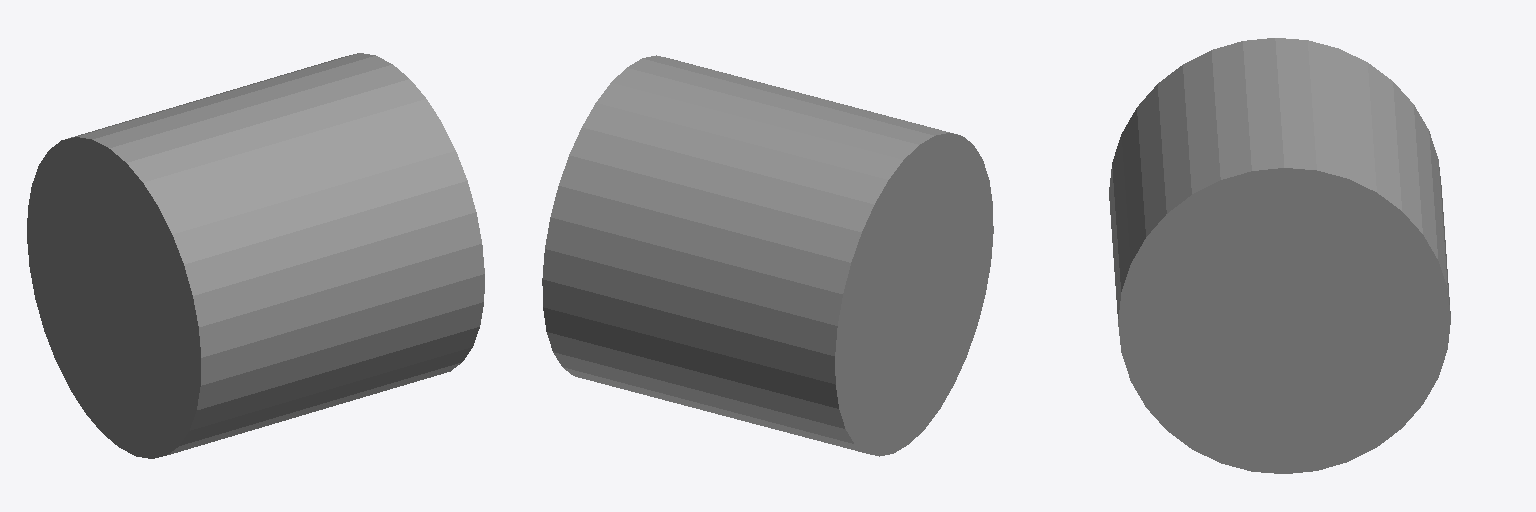
File: wheelFrontRight.obj
3 renders of one model, left to right at view 1: azimuth 30°, elevation 25°; view 2: azimuth 150°, elevation 25°; view 3: azimuth 270°, elevation 25°, orthographic.
Visible parts, largest first — view 1: Cylinder.002; view 2: Cylinder.002; view 3: Cylinder.002.
Boxes of the visible parts, box(x1,y1,x2,y2) form: Cylinder.002: box(27, 53, 484, 458); Cylinder.002: box(542, 55, 993, 456); Cylinder.002: box(1109, 38, 1450, 473).
Size of the model in its own units: 1.36 by 1.35 by 1.34.